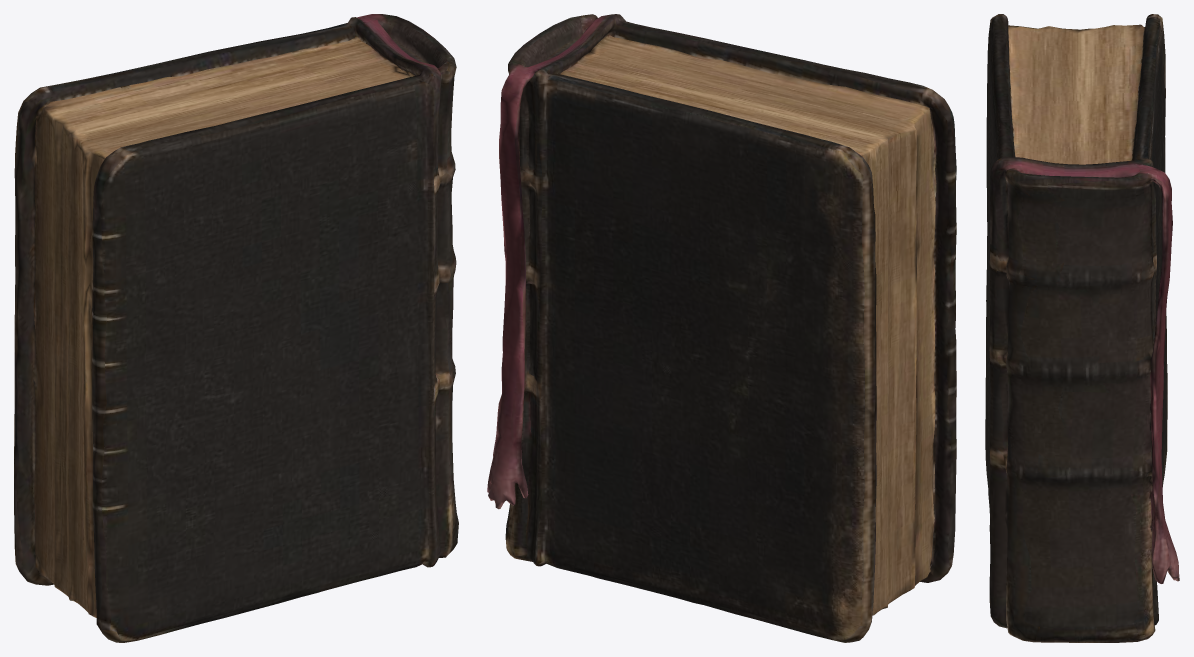
Rendered from hotel-bible.glb.
The picture shows the model from 3 angles, left to right: view 1: azimuth 30°, elevation 25°; view 2: azimuth 150°, elevation 25°; view 3: azimuth 270°, elevation 25°; orthographic projection. The views are drawn at different scales.
Parts seen in each view (by area): view 1: Mesh_0; view 2: Mesh_0; view 3: Mesh_0.
Part boxes in pixels (left/top/right/bottom): Mesh_0: left=14, top=14, right=458, bottom=642; Mesh_0: left=487, top=14, right=956, bottom=642; Mesh_0: left=985, top=14, right=1179, bottom=642.
Size of the model in its own units: 0.1779 by 0.2197 by 0.082.
1 material, 1 textured.
